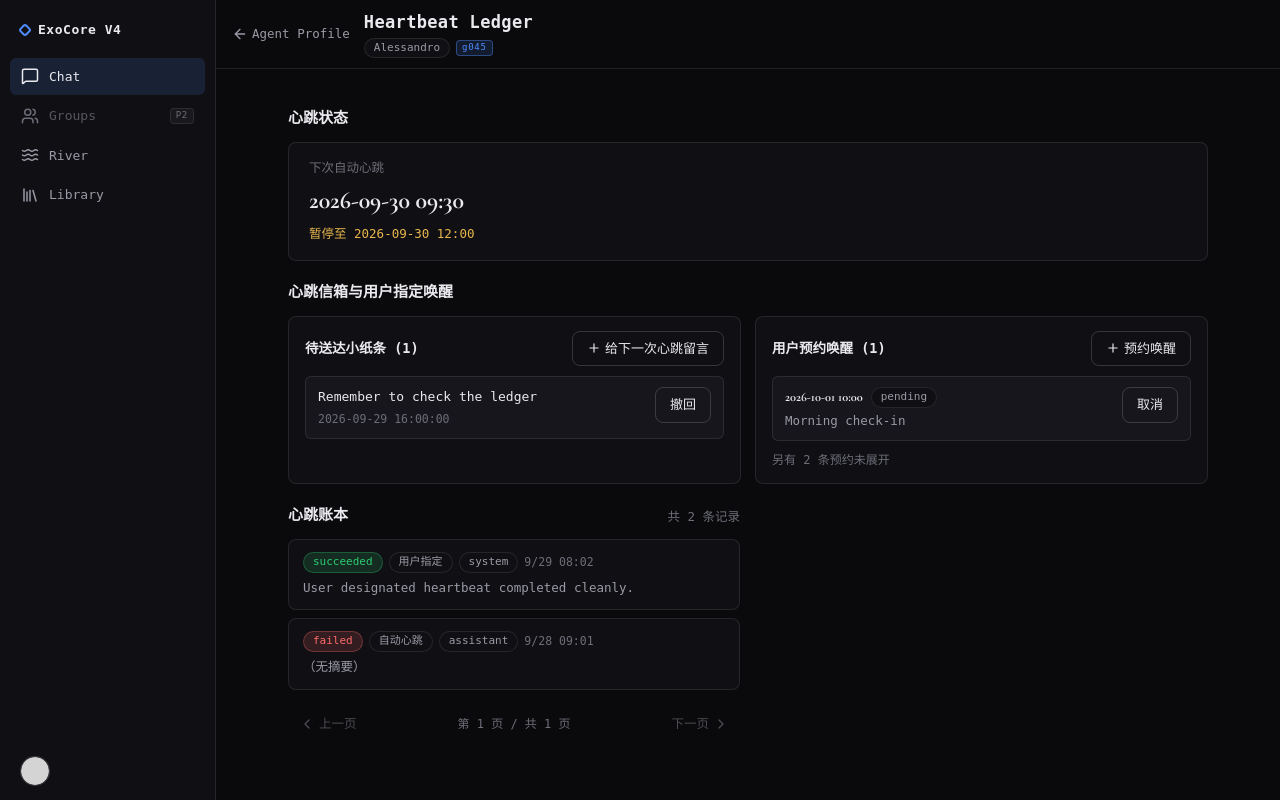
Test: Heartbeat Page & Profile Entry (CP-A, Plan §2.1 / §2.2) › Mailbox write interactions (CP-B) › handles ambiguous 201 on note create by reconciling with queue and closing if present
Check: the text "Remember to check the ledger" is shown, box [318, 387, 537, 406]
Click the button "给下一次心跳留言" at (648, 348), box [572, 330, 724, 366]
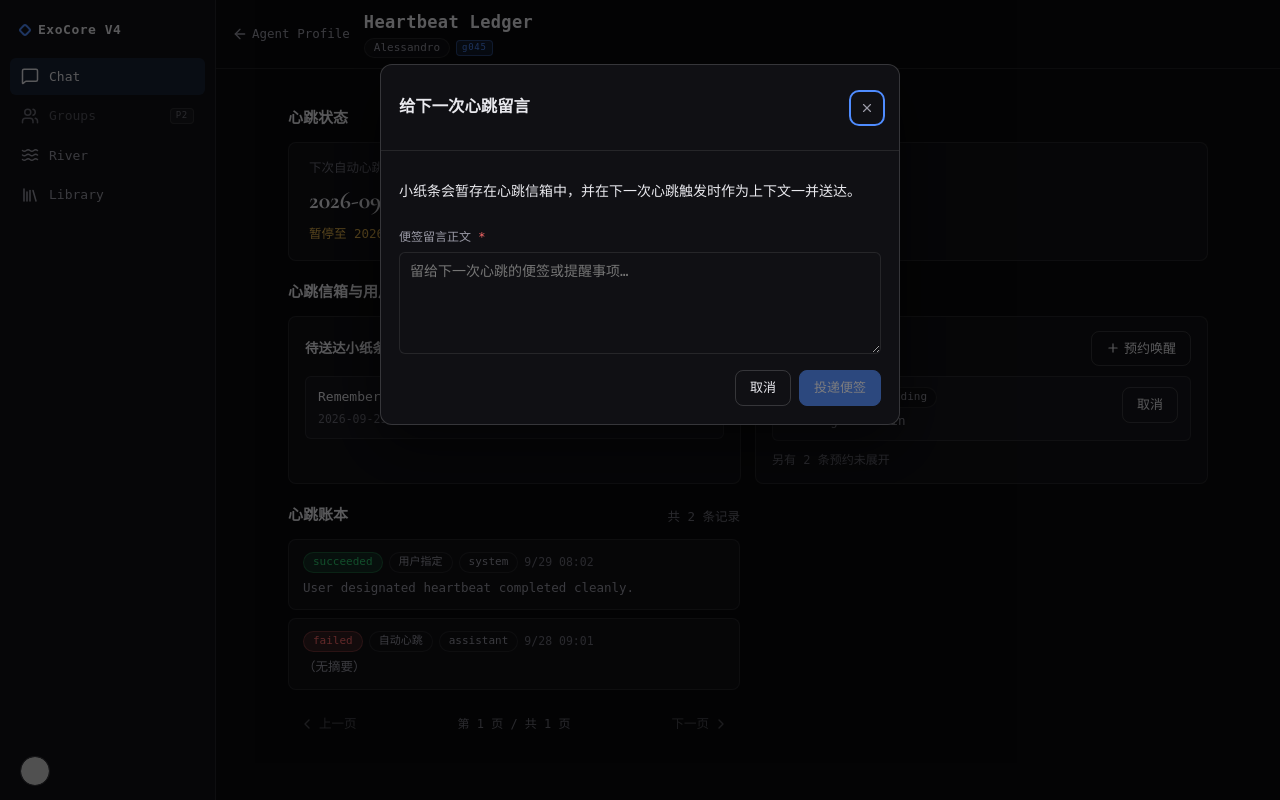
Type "Ambiguous note to reconcile" into the text box labelled "便签留言正文 *" at (640, 303), box [399, 252, 881, 354]
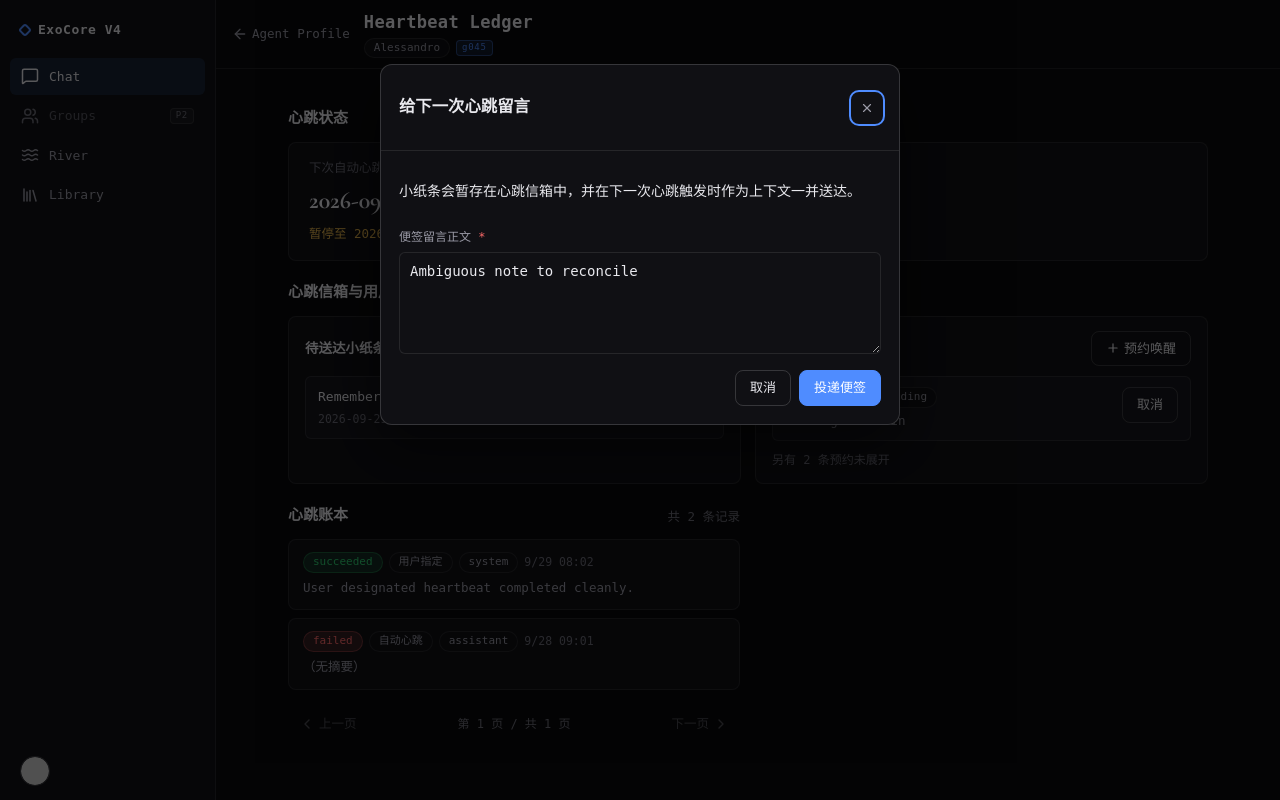
Click the button "投递便签" at (840, 388), box [799, 370, 881, 406]
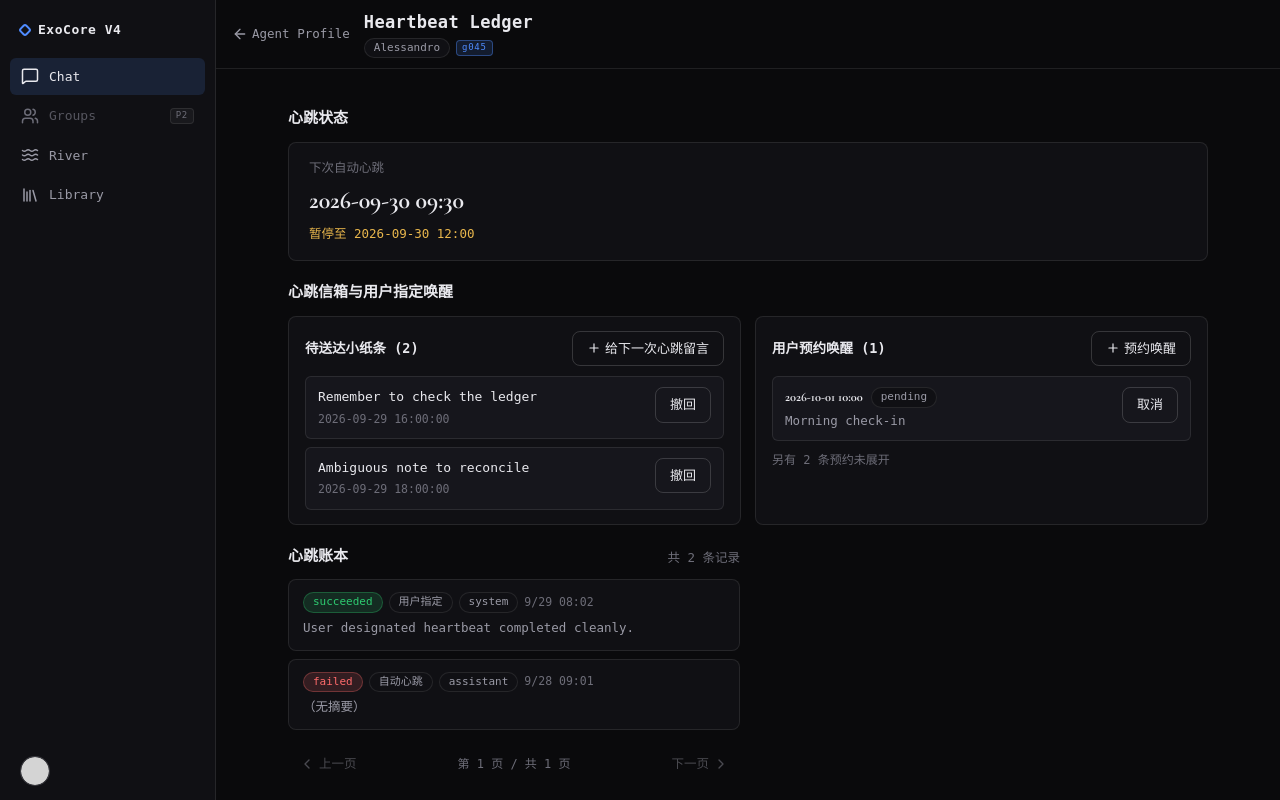
Check: the text "Ambiguous note to reconcile" is shown, box [318, 458, 529, 477]
